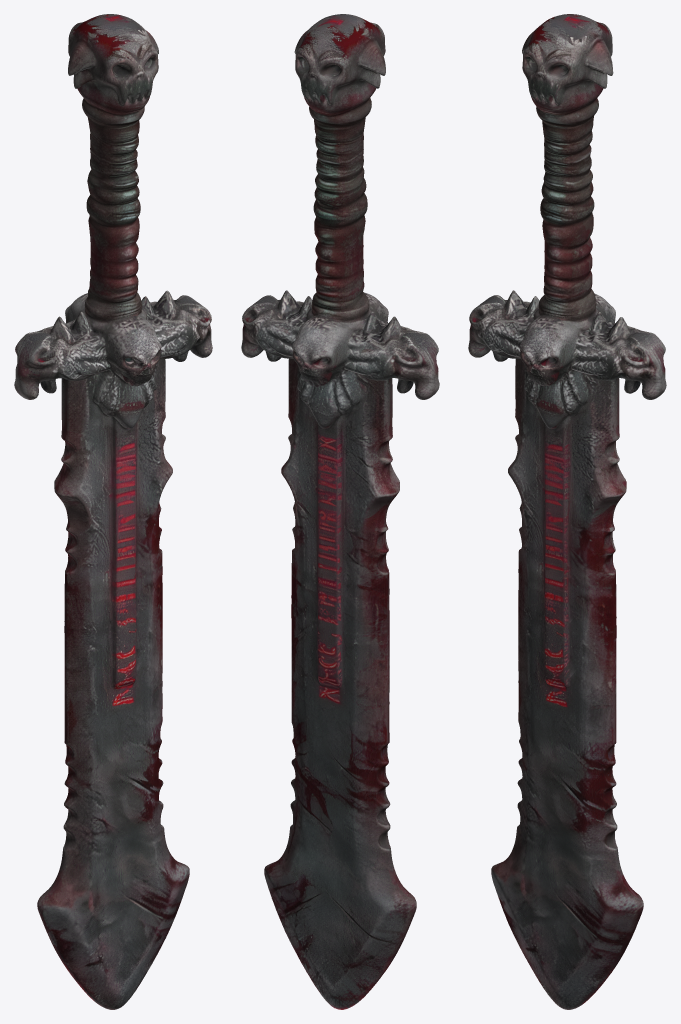
Rendered from Meshy_Model_Import0005.fbx.
3 renders of one model, left to right at view 1: azimuth 30°, elevation 25°; view 2: azimuth 150°, elevation 25°; view 3: azimuth 330°, elevation 25°, orthographic.
Parts seen in each view (by area): view 1: Mesh_0; view 2: Mesh_0; view 3: Mesh_0.
Boxes of the visible parts, x1,y1,x2,y2 form: Mesh_0: [14, 14, 212, 1009]; Mesh_0: [241, 14, 439, 1009]; Mesh_0: [468, 14, 666, 1009].
Size of the model in its own units: 38.41 by 190 by 23.84.
Materials: 1 (1 with a texture image).
